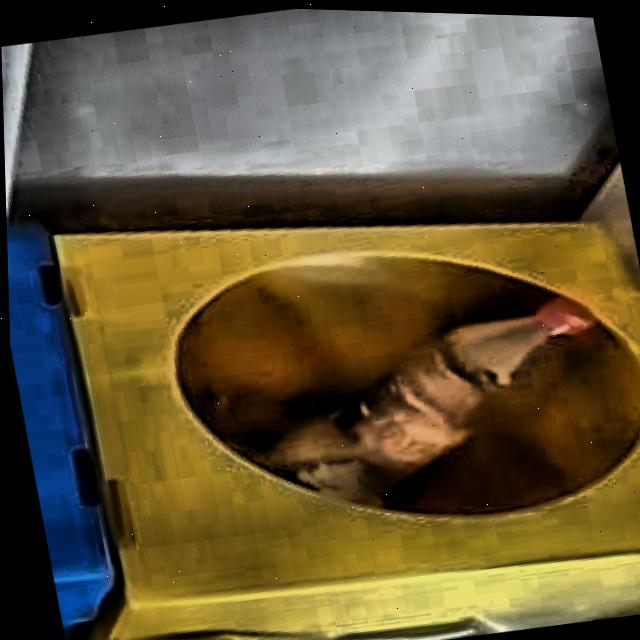plastic: (264, 294, 595, 503)
